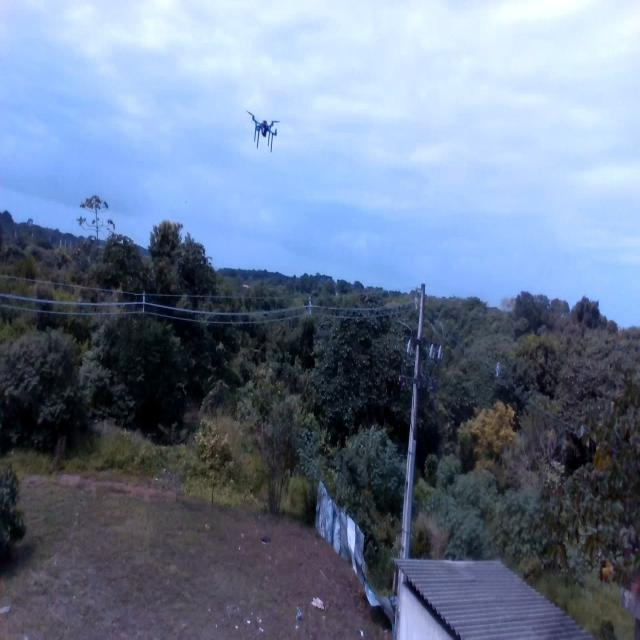-uav-: (240, 101, 290, 161)
